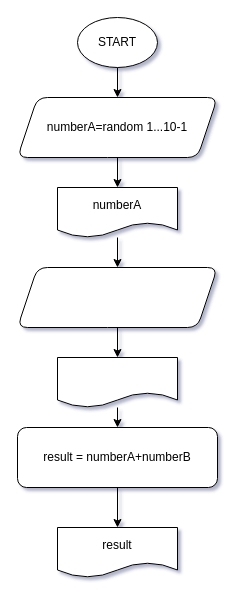
Some shapes in this 241 by 601 pixel diagram are drawn without their labels. The shapes that lost their labels are listed below. From the top down, each one's centre as x and y in pixels, then its label:
the point at 117,297: numberB=random 1...10-1
the point at 117,382: numberB
